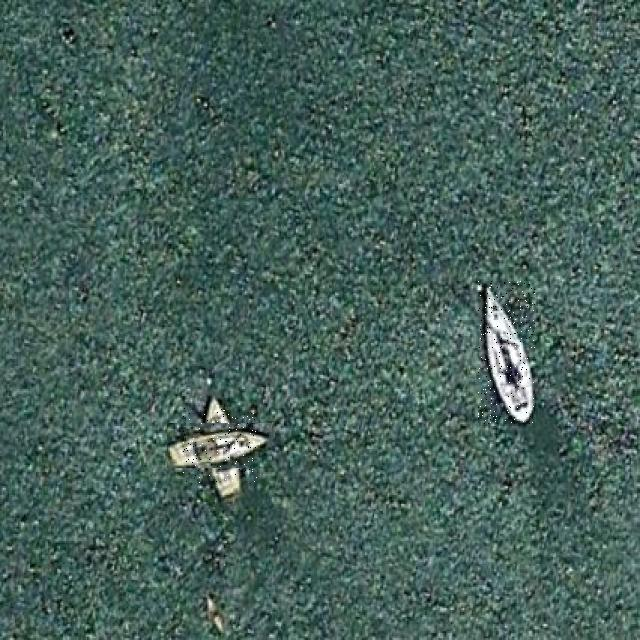boat: (478, 281, 535, 424), (182, 408, 257, 483)
